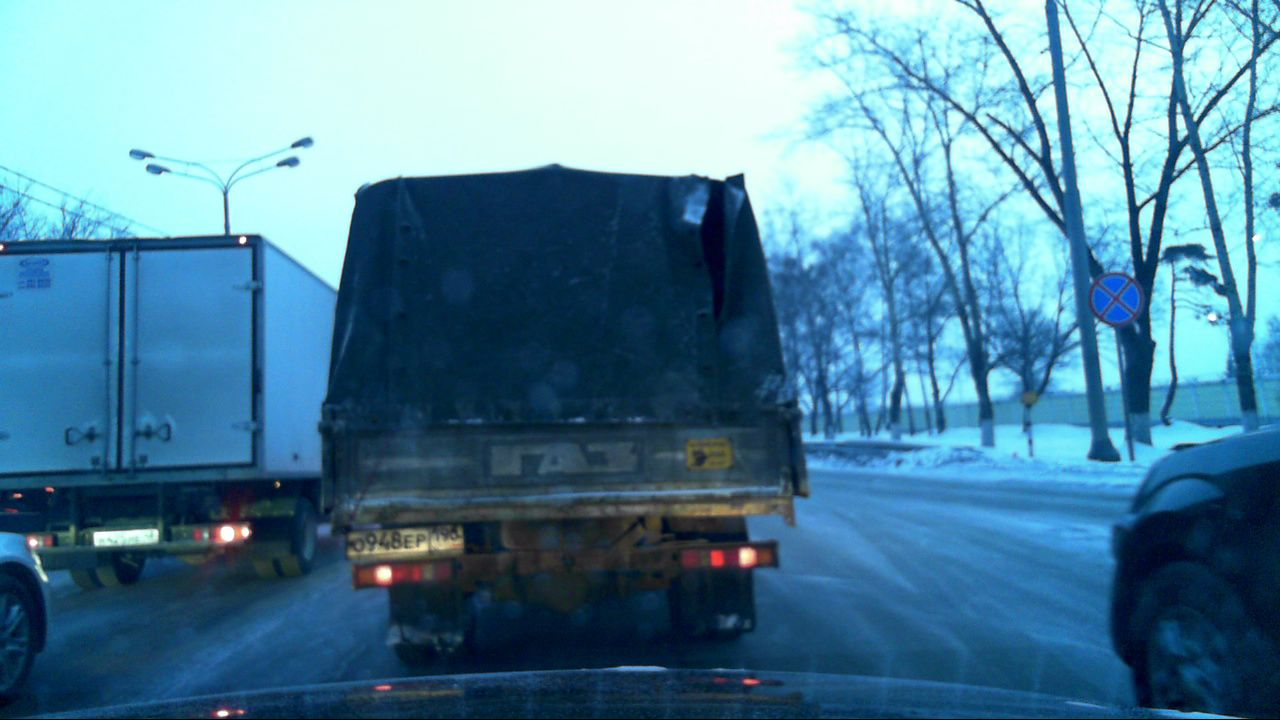No Parking: (1090, 273, 1144, 326)
